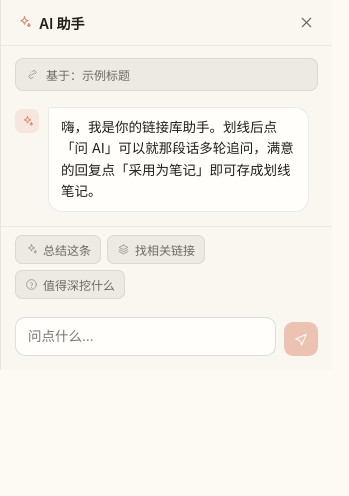
Test: ChatSidebar › 优先使用 identity-bound Reader AI，并让服务端按 link_id 解析正文上下文
Type "请概括" into the text box with placeholder "问点什么…". click: (146, 337)
box: [15,317,276,356]
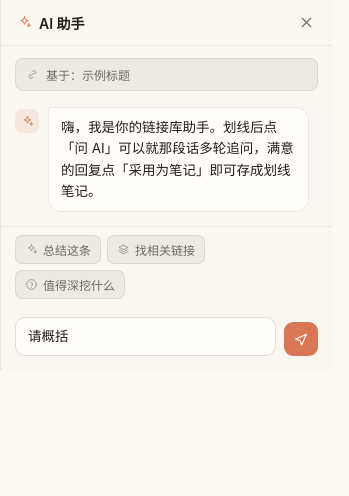
Press Enter in the text box with placeholder "问点什么…", box [15,317,276,356]
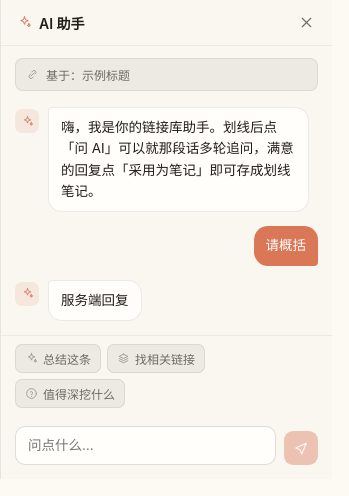
Expected: the text "服务端回复" is shown, [61,290,128,311]
